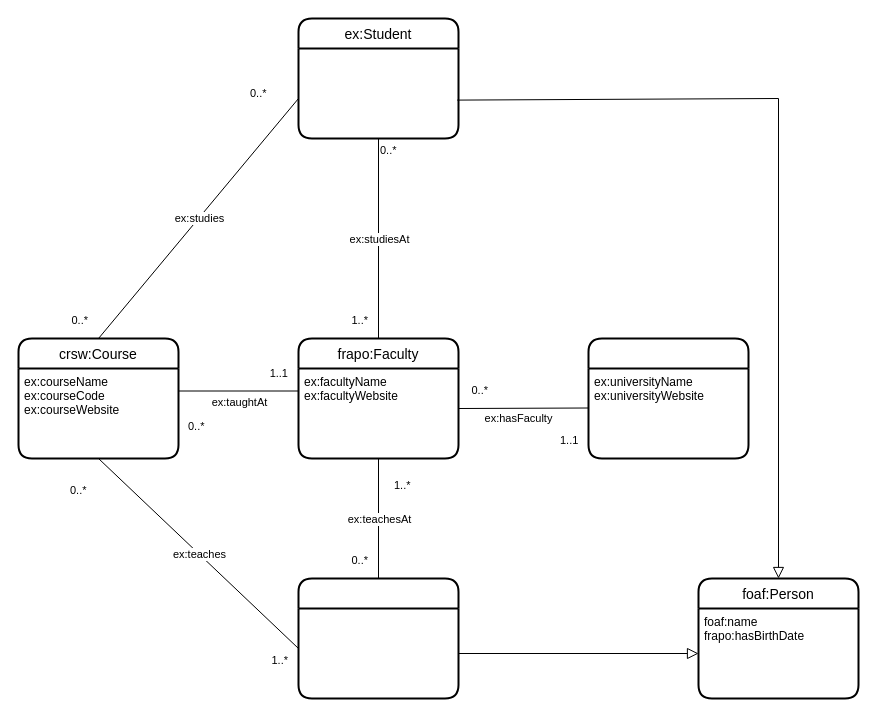
This 876x716 diagram has some shape labels left out. Here are the shapes that lost their labels. From the top down, the box of each, then its label:
(587, 337, 749, 459): frapo:University
(297, 577, 459, 699): ex:Teacher
